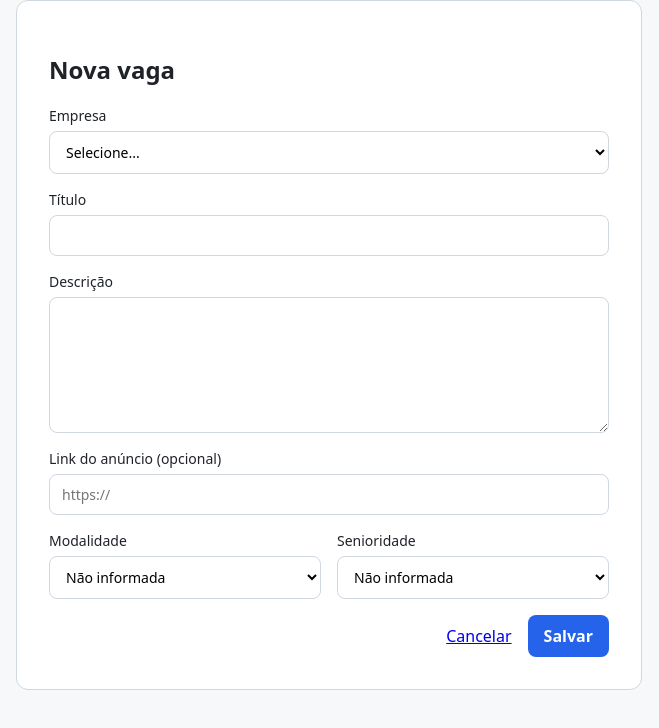
Test: VagaFormView › mostra os erros de validação da API embaixo de cada campo
Select "Nubank" in the dropdown with test id "empresa": (329,152) [49, 131, 609, 174]
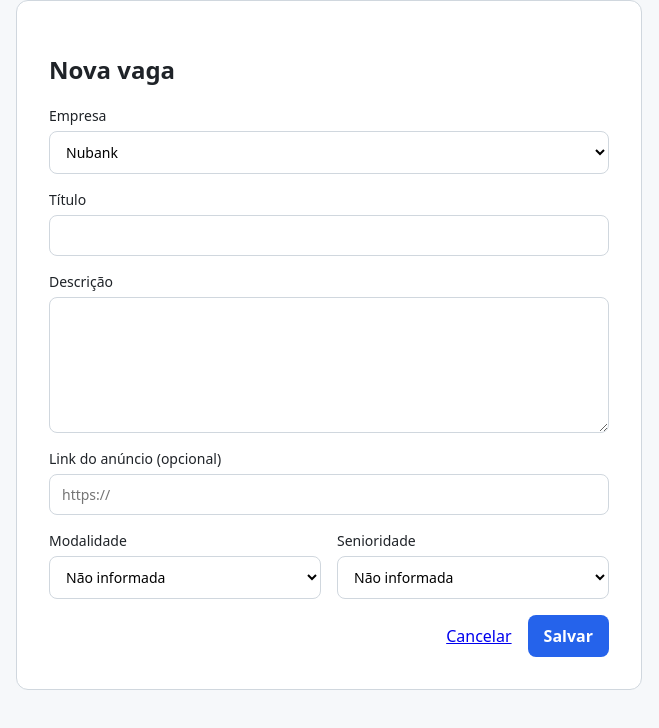
In the field with test id "titulo": (329,235) [49, 215, 609, 256], type "D"
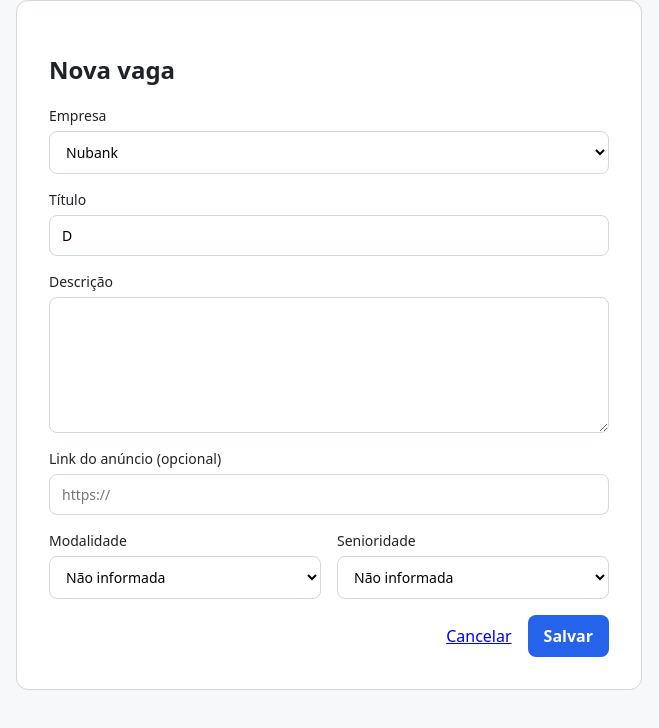
In the text box with test id "descricao": (329,365) [49, 297, 609, 433], type "x"
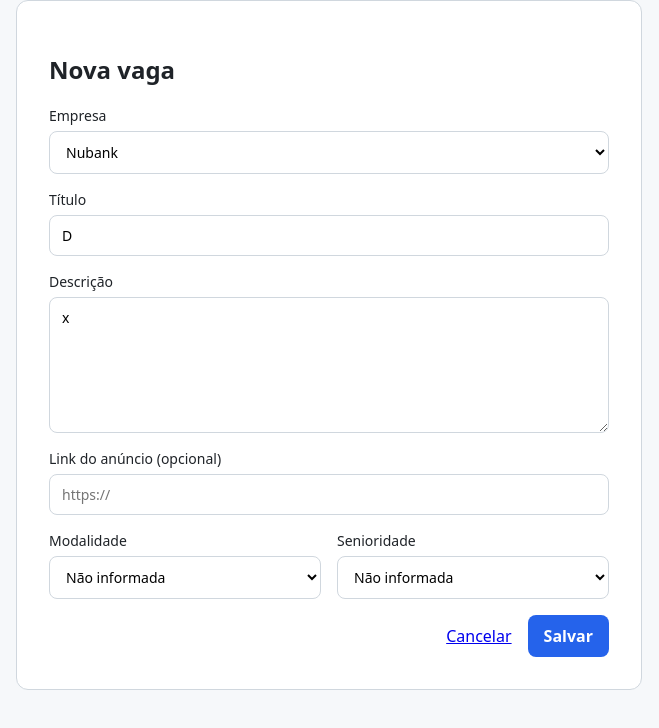
Submit the form
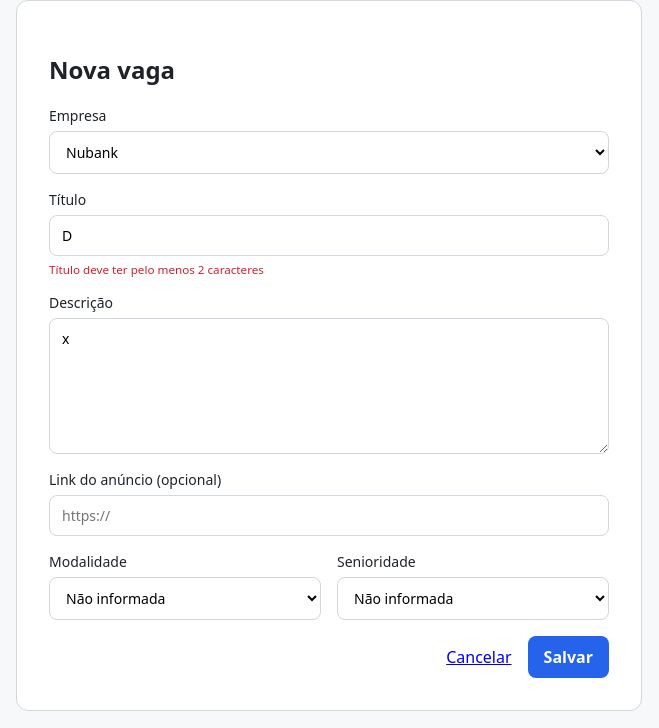
Expected: the text "Título deve ter pelo menos 2 caracteres" is shown, [49, 262, 264, 277]
